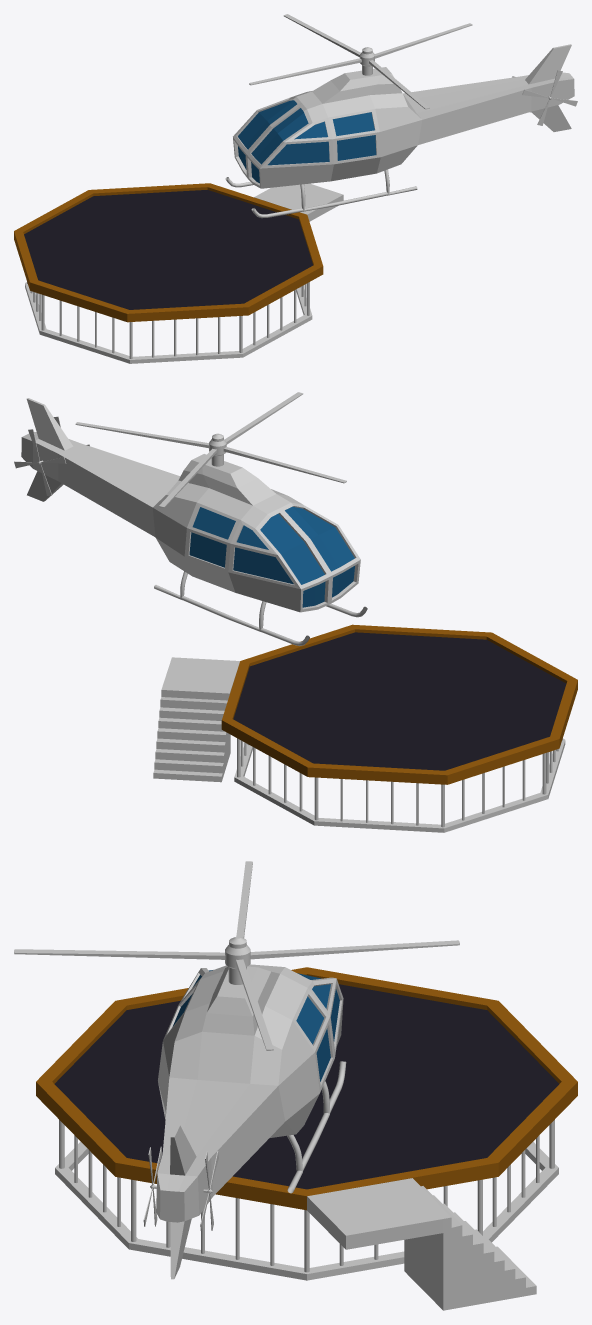
The model's file is copter_000182.obj.
3 renders of one model, top to bottom at view 1: azimuth 30°, elevation 25°; view 2: azimuth 150°, elevation 25°; view 3: azimuth 270°, elevation 25°, orthographic. The views are drawn at different scales.
Visible parts, largest first — view 1: Cylinder.001_Cylinder.012, Helicopter.007_Cylinder.008, Helicopter.001_Cylinder.001, Cylinder.004, Cylinder.003_Cylinder.005, Cylinder.002; view 2: Cylinder.001_Cylinder.012, Helicopter.007_Cylinder.008, Helicopter.001_Cylinder.001, Cylinder.004, Cylinder.003_Cylinder.005, Cylinder.002; view 3: Cylinder.001_Cylinder.012, Helicopter.007_Cylinder.008, Helicopter.001_Cylinder.001, Cylinder.004, Cylinder.002, Cylinder.003_Cylinder.005.
Boxes of the visible parts, <box> form: Cylinder.001_Cylinder.012: <box>14,183,343,363</box>; Helicopter.007_Cylinder.008: <box>225,44,574,217</box>; Helicopter.001_Cylinder.001: <box>249,14,472,109</box>; Cylinder.004: <box>152,289,296,357</box>; Cylinder.003_Cylinder.005: <box>30,284,306,353</box>; Cylinder.002: <box>27,282,309,358</box>; Cylinder.001_Cylinder.012: <box>153,624,577,832</box>; Helicopter.007_Cylinder.008: <box>21,398,367,645</box>; Helicopter.001_Cylinder.001: <box>75,392,346,507</box>; Cylinder.004: <box>253,747,418,825</box>; Cylinder.003_Cylinder.005: <box>241,740,558,820</box>; Cylinder.002: <box>237,738,562,827</box>; Cylinder.001_Cylinder.012: <box>36,967,577,1310</box>; Helicopter.007_Cylinder.008: <box>156,964,346,1279</box>; Helicopter.001_Cylinder.001: <box>14,861,459,1050</box>; Cylinder.004: <box>74,1135,539,1226</box>; Cylinder.002: <box>59,1120,554,1272</box>; Cylinder.003_Cylinder.005: <box>166,1186,447,1265</box>.
Size of the model in its own units: 12.33 by 5.29 by 7.04.
